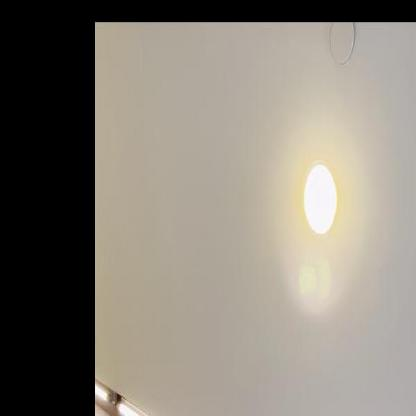light_on: (294, 147, 344, 242)
